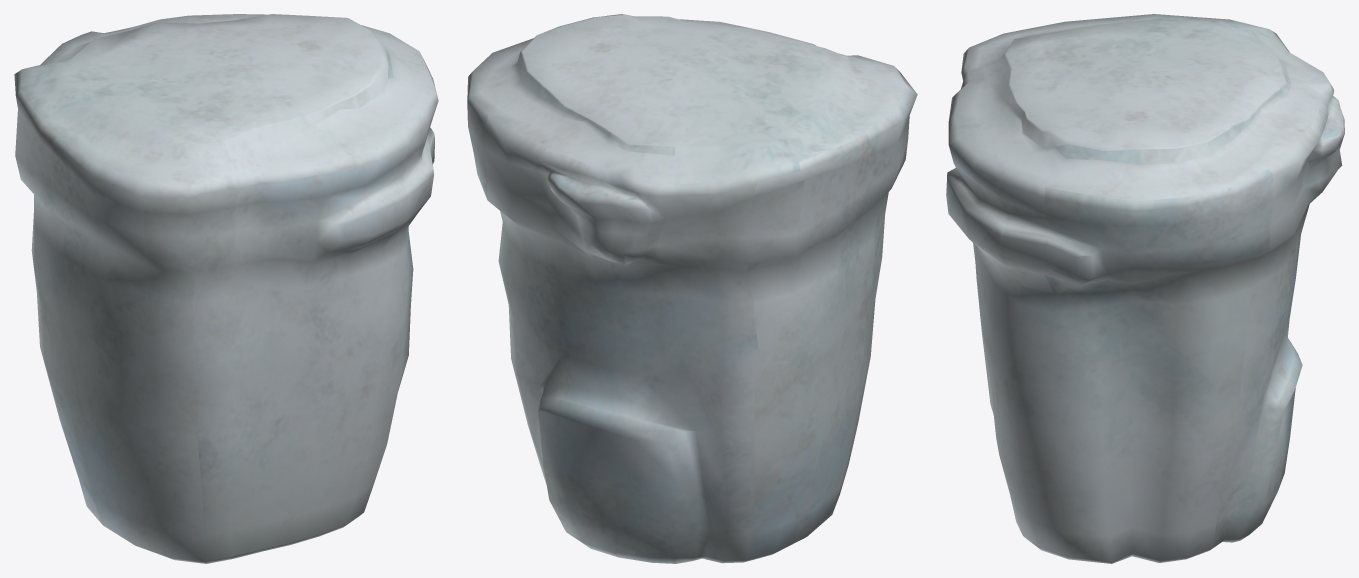
The model's file is P_RockDesert_CliffC05.obj.
The picture shows the model from 3 angles, left to right: view 1: azimuth 30°, elevation 25°; view 2: azimuth 150°, elevation 25°; view 3: azimuth 270°, elevation 25°; orthographic projection. The views are drawn at different scales.
Bounding box in the file's own units: 49.91 × 56.95 × 46.35.
